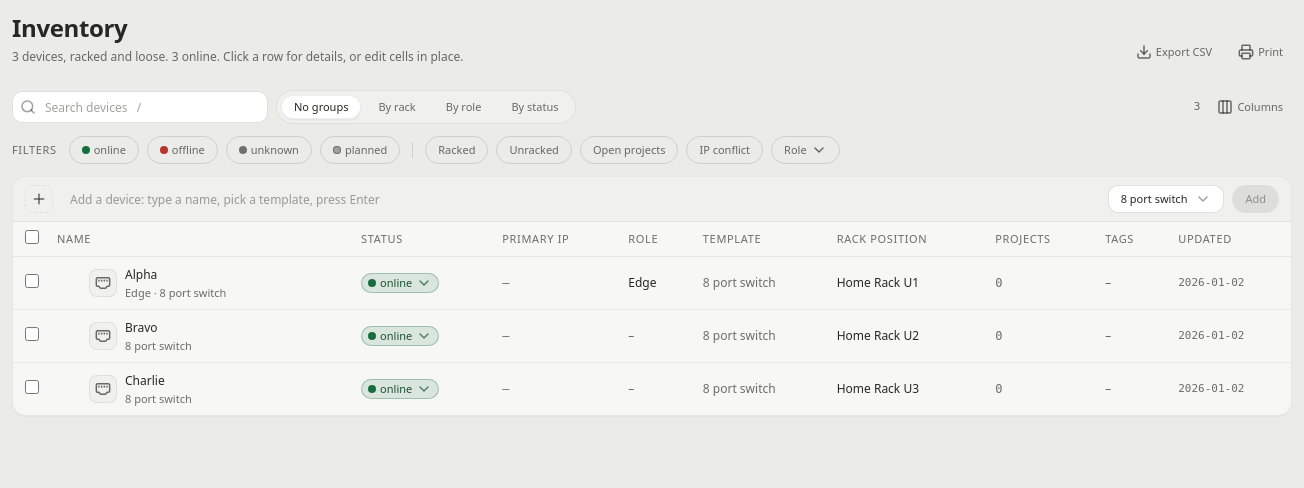
Test: Inventory bulk actions › sets status on every checked device (shift-click range) as one undo step
Later steps or results of the test are not shown.
Click the checkbox named "Select Alpha" at (32, 280), box [25,274,39,288]
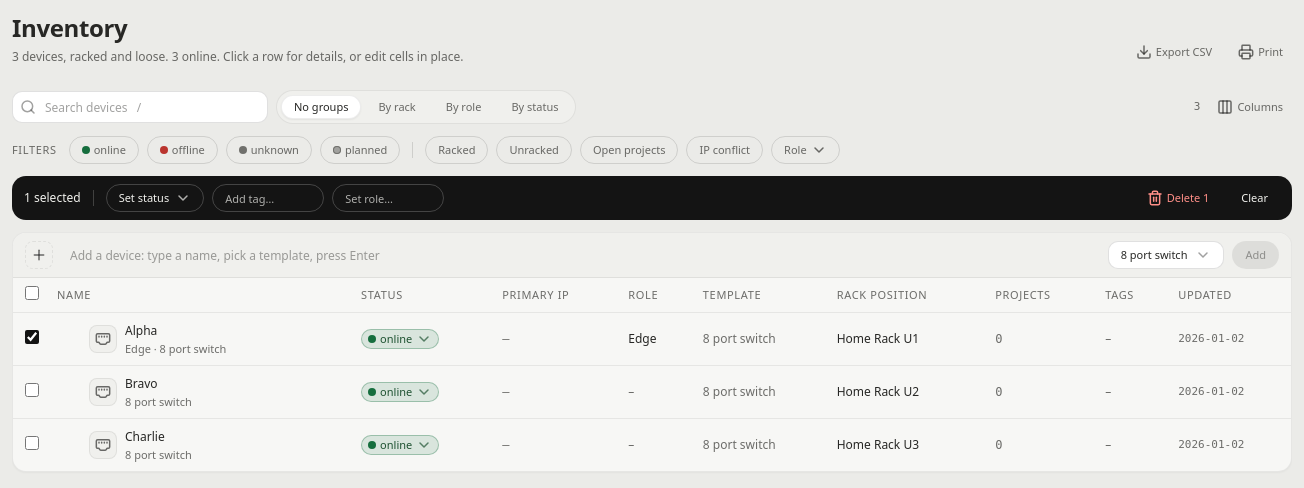
Click the checkbox named "Select Charlie" at (32, 442), box [25,436,39,450]
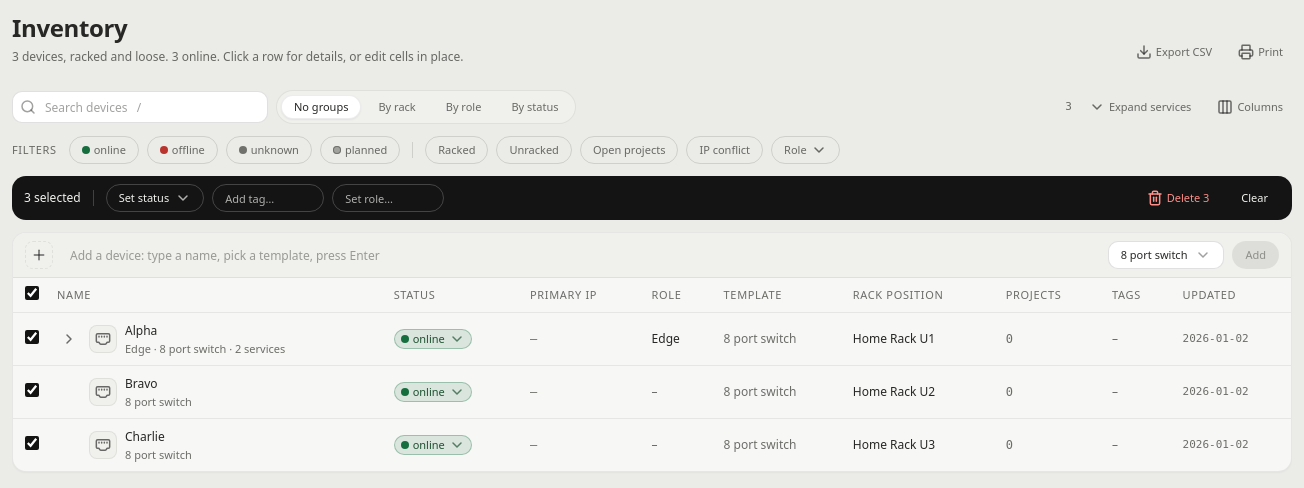
expect the text "3 selected" is shown: met, box [24,189,81,207]
